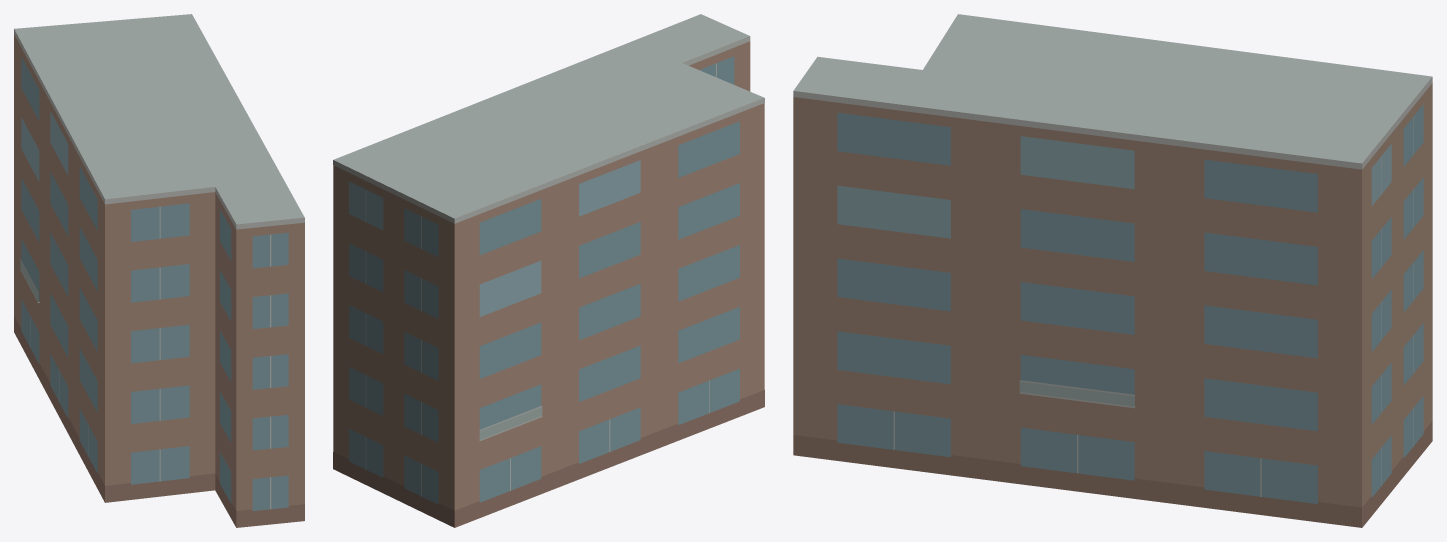
The model's file is survey-upis-32874793.glb.
3 views of the same model, side by side, from view 1: azimuth 30°, elevation 25°; view 2: azimuth 150°, elevation 25°; view 3: azimuth 270°, elevation 25° (orthographic). The views are drawn at different scales.
Visible parts, largest first — view 1: survey-upis-32874793.tmp; view 2: survey-upis-32874793.tmp; view 3: survey-upis-32874793.tmp.
Part boxes in pixels (box(x1,y1,x2,y2)): survey-upis-32874793.tmp: box(14, 14, 304, 527); survey-upis-32874793.tmp: box(333, 14, 764, 527); survey-upis-32874793.tmp: box(793, 14, 1432, 527).
Size of the model in its own units: 12.91 by 14.65 by 23.31.
